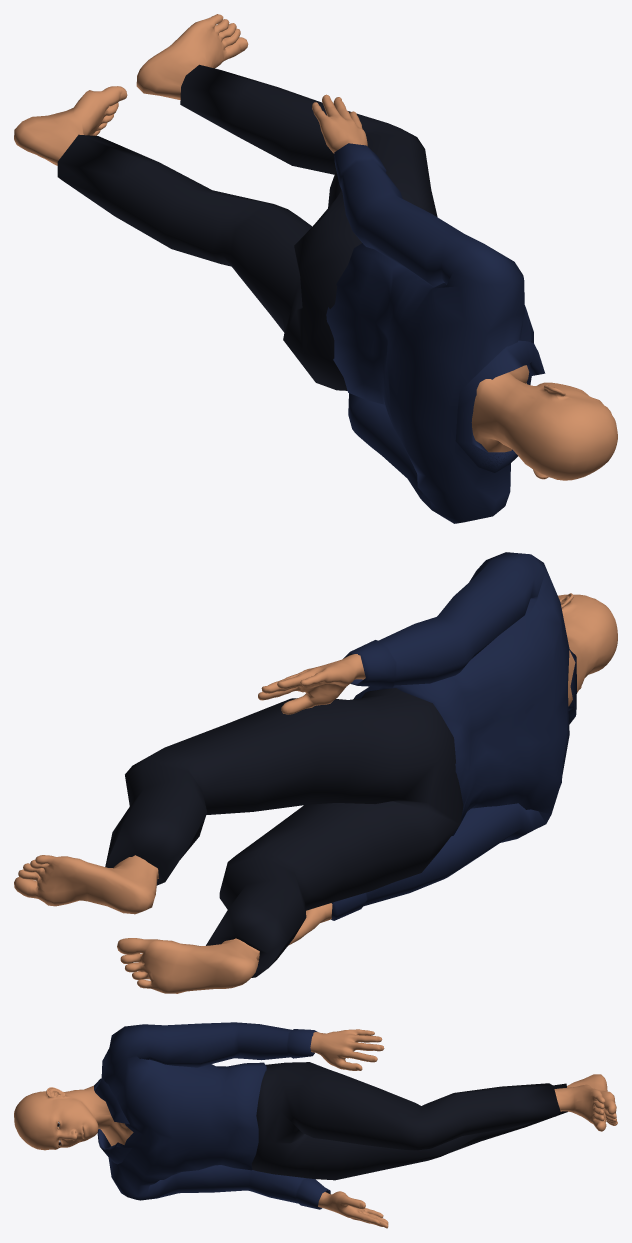
The model's file is walk.obj.
3 renders of one model, top to bottom at view 1: azimuth 30°, elevation 25°; view 2: azimuth 150°, elevation 25°; view 3: azimuth 270°, elevation 25°, orthographic. The views are drawn at different scales.
Size of the model in its own units: 0.5339 by 0.5496 by 1.68.
